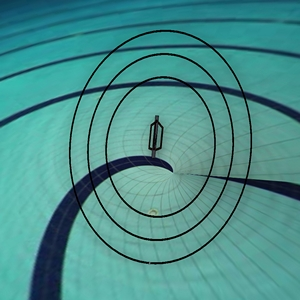circle: (59, 9, 268, 279)
submarine: (137, 110, 176, 159)
